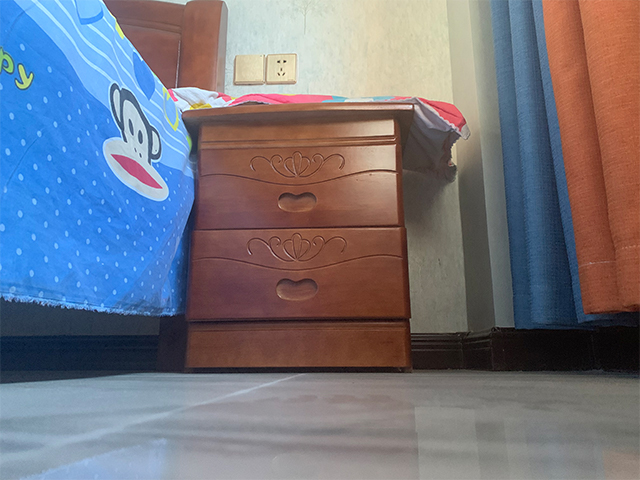bed: (1, 1, 228, 372)
cabinet: (180, 101, 416, 373)
curtain: (489, 1, 640, 330)
